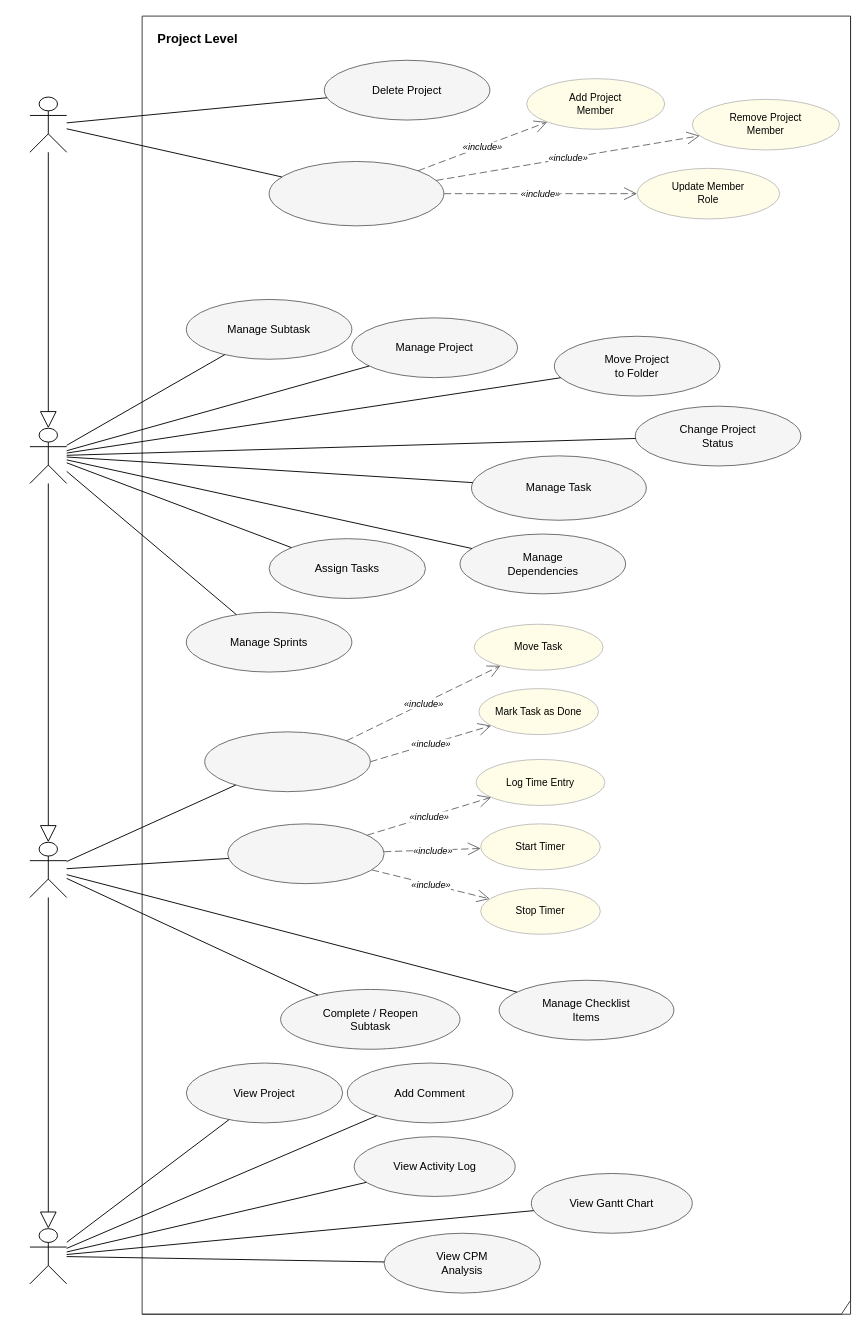
This 867x1333 diagram has some shape labels left out. Here are the shapes that lost their labels. From the top down, the centre of each, then its label:
(x=48, y=124): Project Owner
(x=356, y=193): Manage Project Members
(x=48, y=455): Project Manager
(x=287, y=761): Change Task Status
(x=48, y=869): Development Team
(x=305, y=853): Manage Time Tracker
(x=48, y=1256): Project Guest
